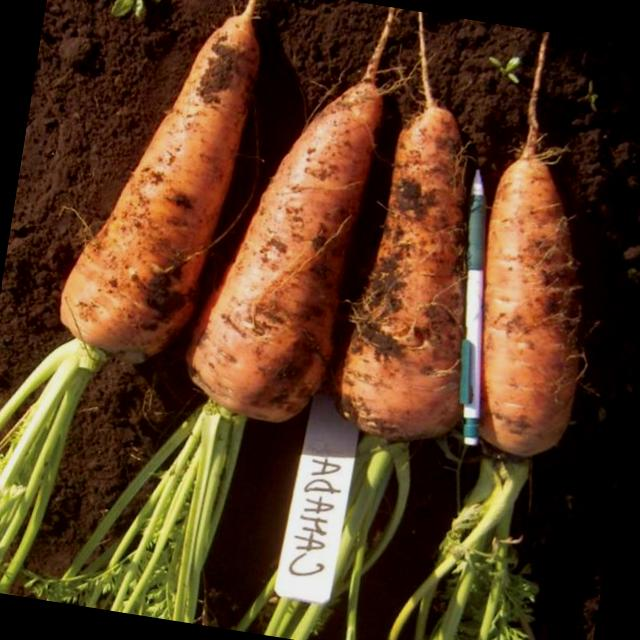carrot: (181, 72, 399, 427), (58, 0, 261, 357), (328, 105, 475, 443), (480, 154, 587, 461)
